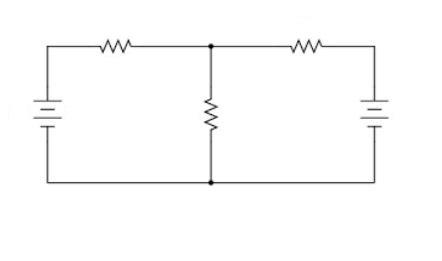resistor: (278, 27, 333, 68), (85, 27, 142, 64), (192, 87, 227, 139)
